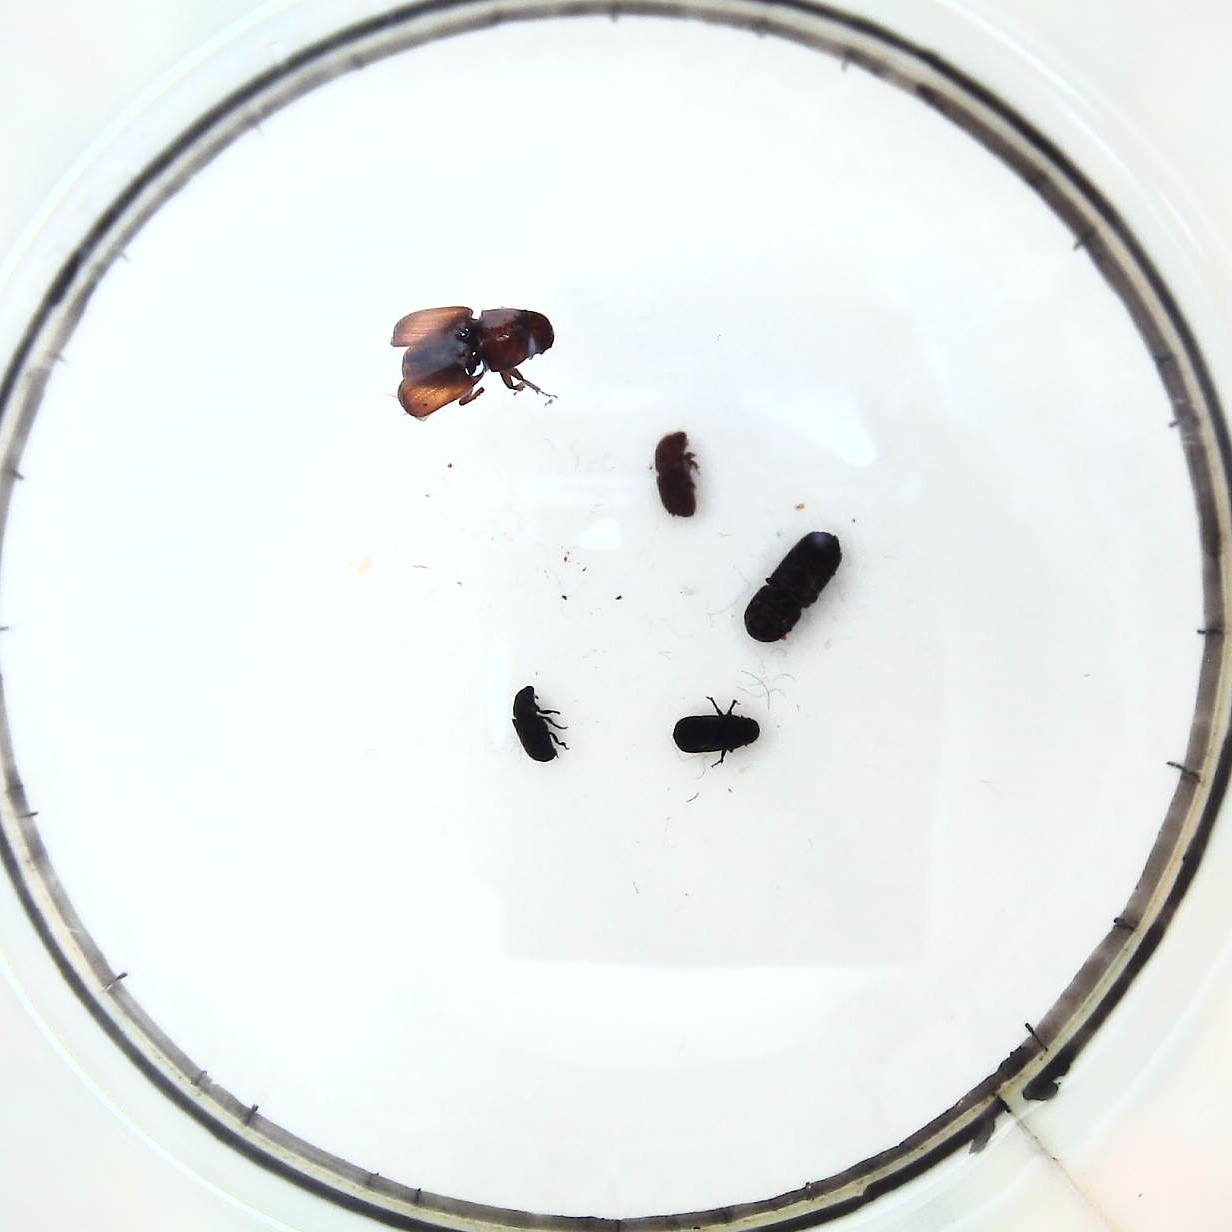Boerner: (747, 528, 844, 642)
Leconte: (387, 303, 557, 416)
Linnaeus: (653, 431, 704, 518)
armandi: (668, 710, 765, 762)
coleoptera: (508, 688, 565, 769)
